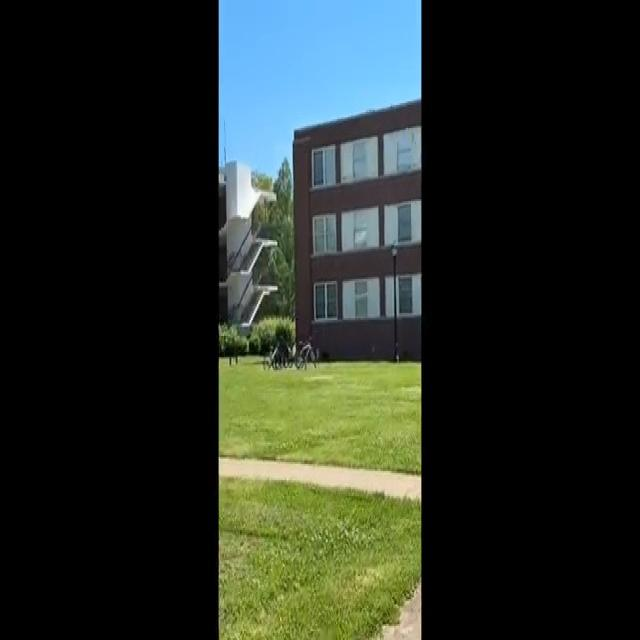drone: (286, 306, 301, 326)
